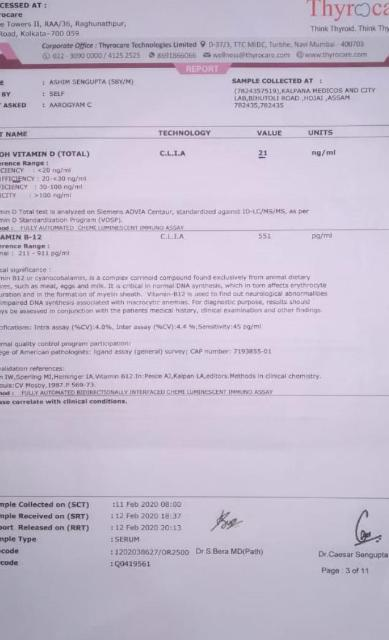Clinical_Conditions: (0, 265, 334, 317)
Name: (49, 76, 136, 87)
Ref_By: (46, 89, 68, 98)
Technology: (156, 231, 192, 243), (160, 147, 190, 161)
Test_Asked: (48, 99, 96, 110)
Test_Name: (0, 147, 95, 204), (0, 231, 74, 260)
Unit: (309, 230, 336, 243), (310, 148, 339, 159)
Value: (255, 147, 273, 161), (257, 230, 276, 241)
